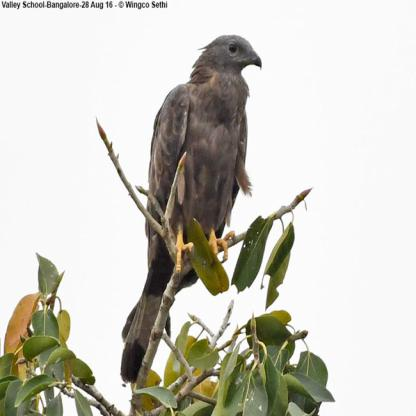Burung: (120, 32, 260, 383)
